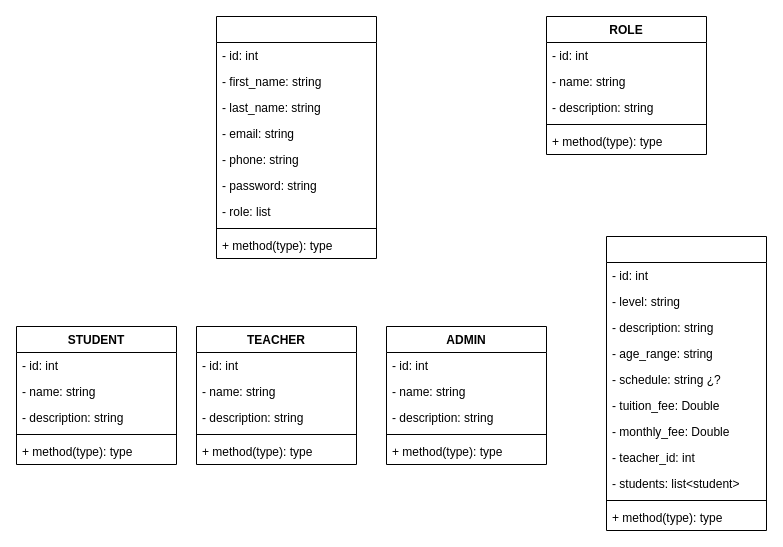
This 783x547 diagram has some shape labels left out. The box of each missing label's shape, as (x1, y1, x2, y2) in pixels:
COURSE: (606, 236, 766, 530)
USER: (216, 16, 376, 258)
